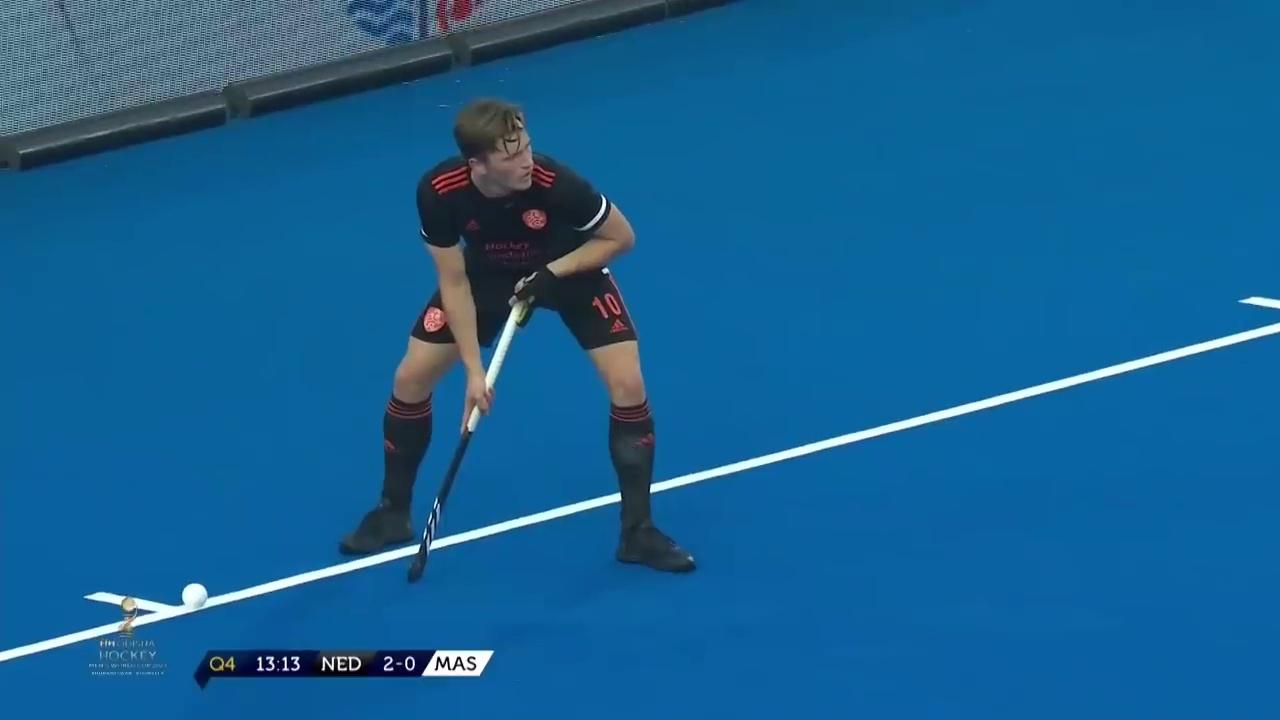ball: (147, 566, 228, 618)
